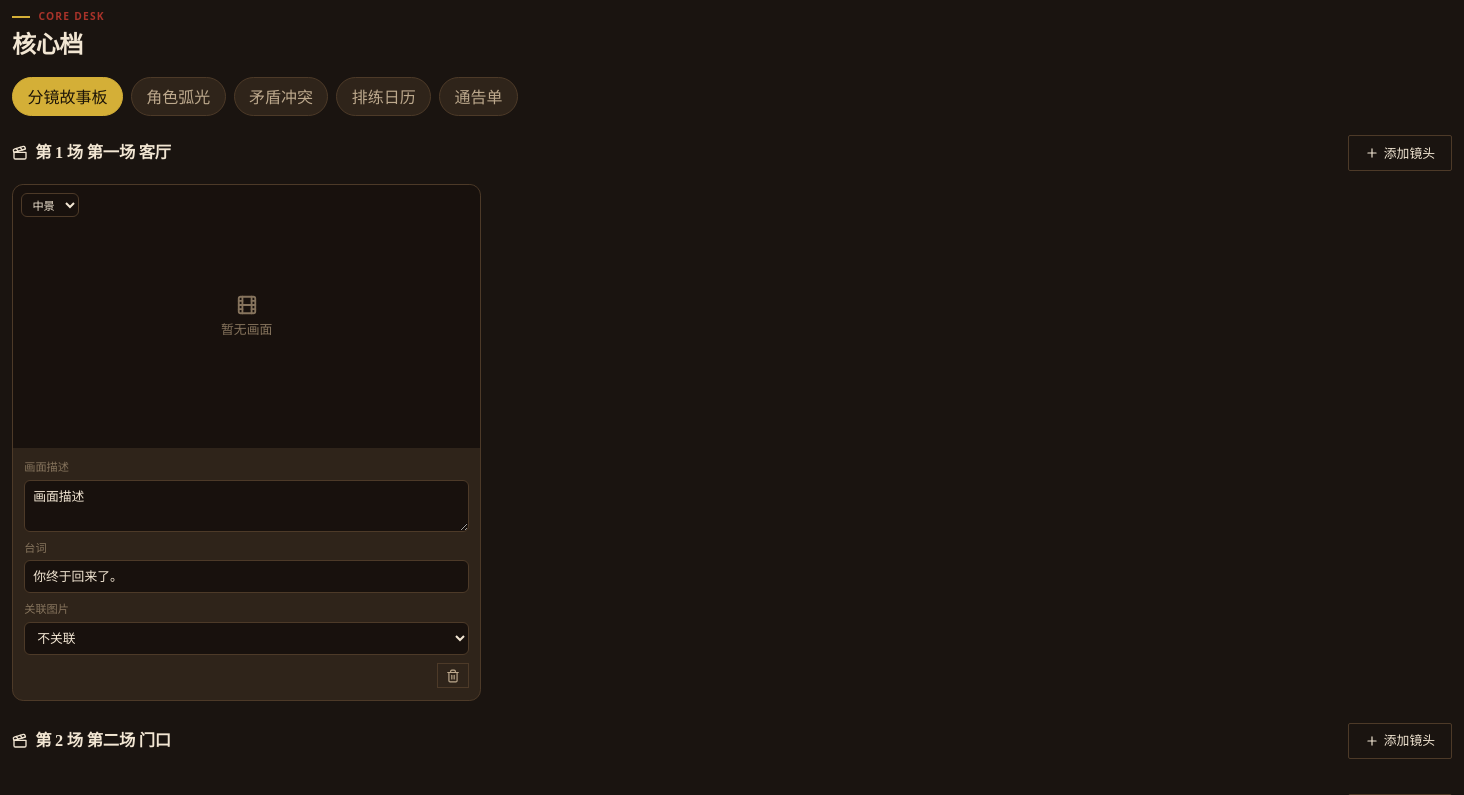
Test case: CoreDesk › 渲染 5 个子 tab 并可切换
Click the tab "排练日历" at (384, 97), box [336,78,431,116]
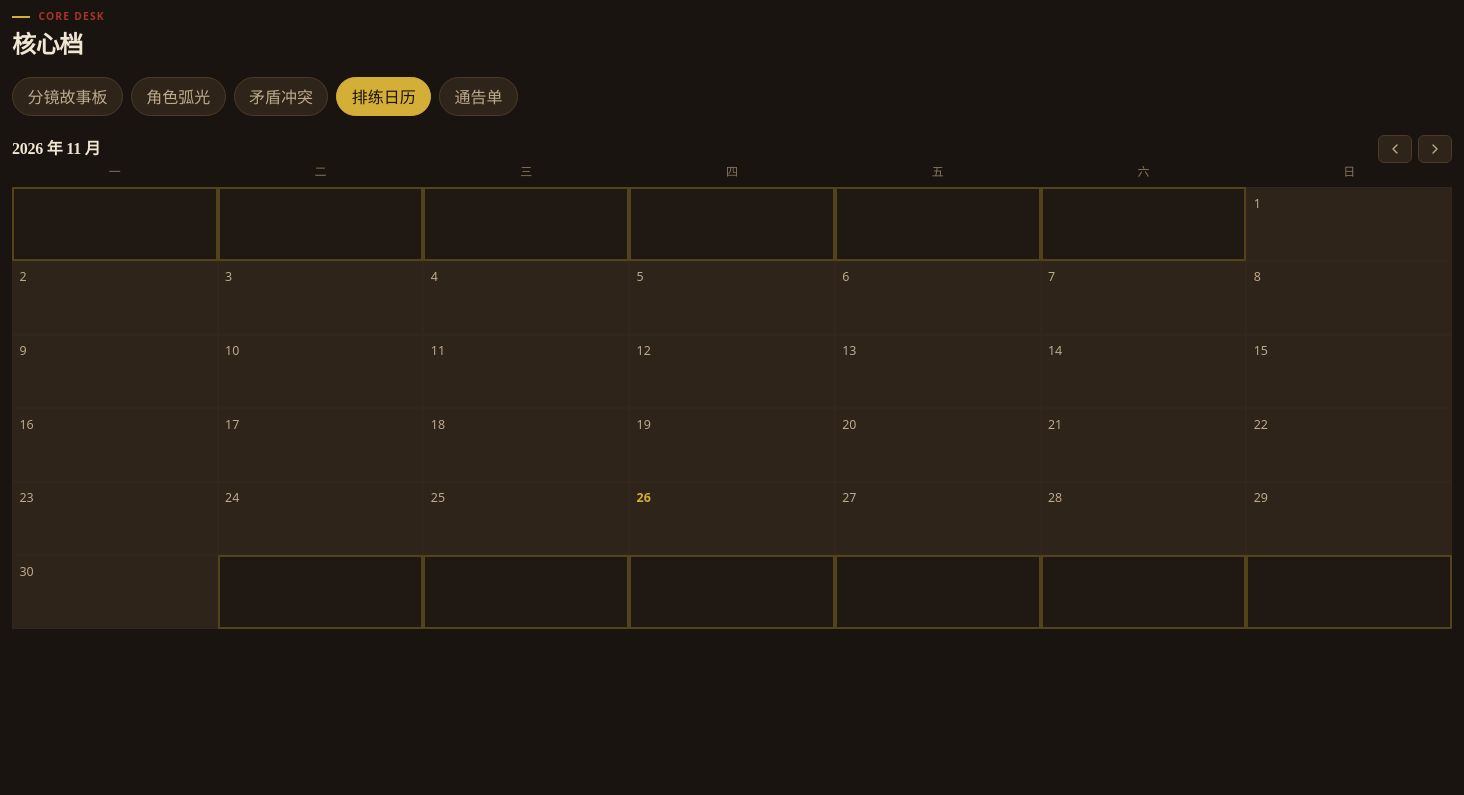
Result: the element with test id "rehearsal-calendar" is shown
